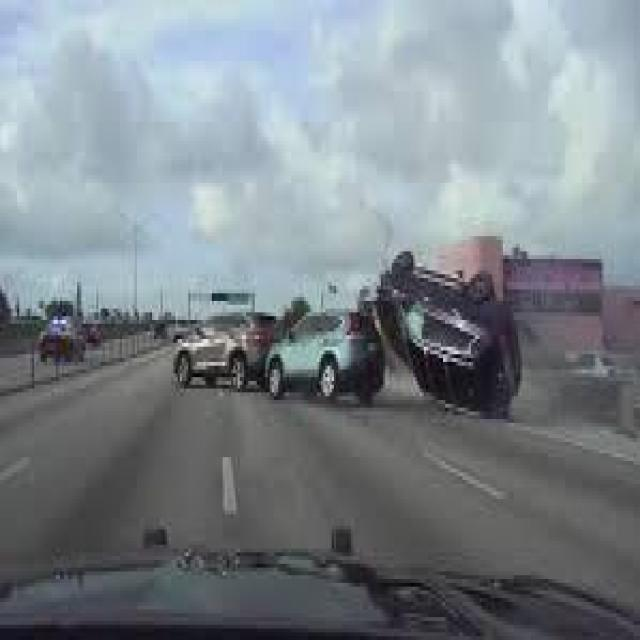accident: (374, 232, 524, 419), (165, 288, 387, 402)
